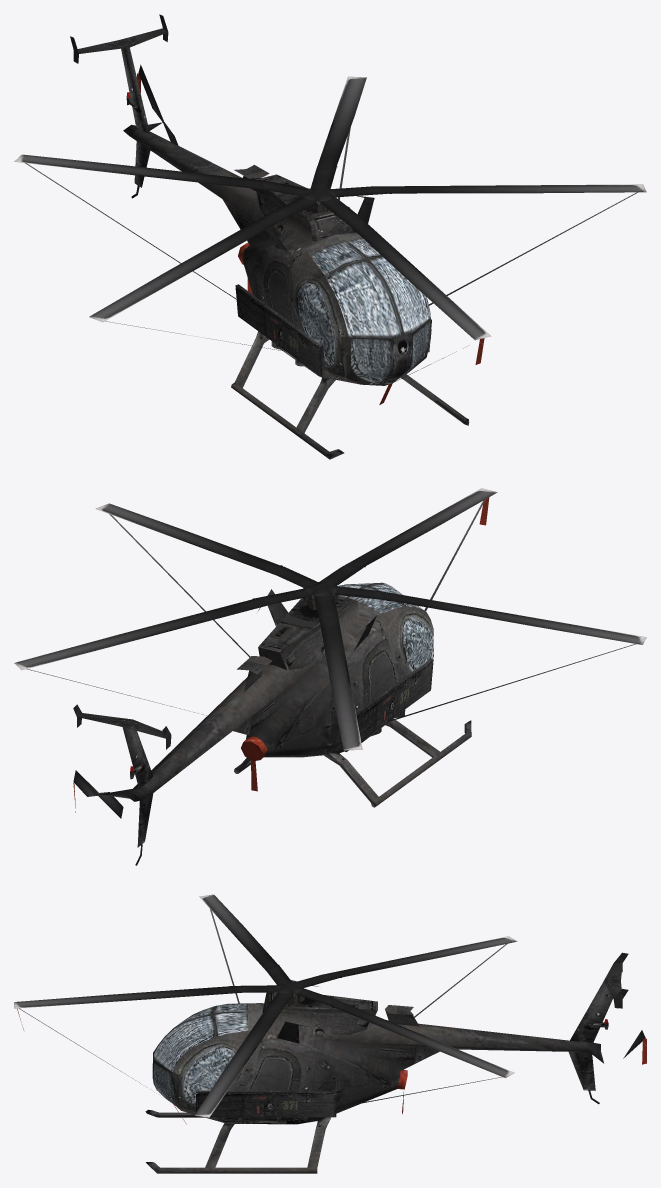
File: FAH6g.glb
3 views of the same model, one above another, from view 1: azimuth 30°, elevation 25°; view 2: azimuth 150°, elevation 25°; view 3: azimuth 270°, elevation 25° (orthographic). The views are drawn at different scales.
Visible parts, largest first — view 1: _FAH6g; view 2: _FAH6g; view 3: _FAH6g.
Part boxes in pixels (x1,y1,x2,y2): _FAH6g: [14, 14, 646, 459]; _FAH6g: [14, 488, 646, 865]; _FAH6g: [14, 894, 646, 1173].
Bounding box in the file's own units: 8.82 × 3.22 × 10.56.
Materials: 2 (2 with a texture image).
